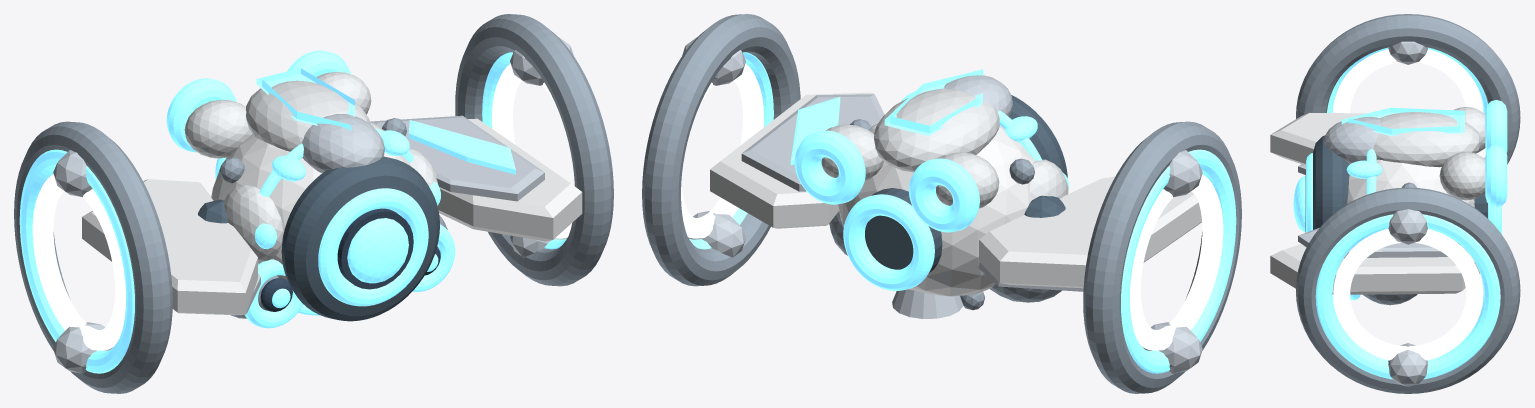
The model's file is drone_b.glb.
The picture shows the model from 3 angles, left to right: view 1: azimuth 30°, elevation 25°; view 2: azimuth 150°, elevation 25°; view 3: azimuth 270°, elevation 25°; orthographic projection. The views are drawn at different scales.
Parts seen in each view (by area): view 1: shield_dish_outer_042, shield_dish_outer_037, escudo_primary_wing_primary_032, front_reactor_bearing_003, escudo_primary_wing_primary_027, shield_dish_inner_039, shield_dish_emission_038, emission_ring_004, escudo_primary_wing_metal_ridge_028, dorsal_armor_back_048, central_reactor_hull_001, dorsal_crest_049 (+23 smaller); view 2: shield_dish_outer_042, shield_dish_outer_037, escudo_primary_wing_primary_032, central_reactor_hull_001, dorsal_armor_back_048, escudo_primary_wing_primary_027, shield_dish_inner_039, shield_dish_emission_038, aft_thruster_emission_026, side_propulsion_ring_063, side_propulsion_ring_056, escudo_primary_wing_metal_ridge_028 (+19 smaller); view 3: shield_dish_outer_042, shield_dish_outer_037, shield_dish_emission_043, shield_dish_inner_044, escudo_primary_wing_primary_027, dorsal_armor_back_048, shield_dish_inner_039, front_reactor_bearing_003, escudo_primary_wing_primary_032, central_reactor_hull_001, upper_thruster_armor_062, dorsal_crest_049 (+16 smaller).
Part boxes in pixels (x1,y1,x2,y2): shield_dish_outer_042: [455, 14, 613, 286]; shield_dish_outer_037: [14, 121, 172, 393]; escudo_primary_wing_primary_032: [82, 179, 257, 315]; front_reactor_bearing_003: [281, 156, 439, 321]; escudo_primary_wing_primary_027: [438, 118, 582, 241]; shield_dish_inner_039: [32, 174, 125, 350]; shield_dish_emission_038: [19, 149, 134, 373]; emission_ring_004: [318, 188, 428, 306]; escudo_primary_wing_metal_ridge_028: [370, 115, 544, 201]; dorsal_armor_back_048: [246, 80, 370, 151]; central_reactor_hull_001: [211, 122, 410, 280]; dorsal_crest_049: [301, 114, 384, 173]; shield_dish_outer_042: [642, 14, 800, 286]; shield_dish_outer_037: [1083, 121, 1241, 393]; escudo_primary_wing_primary_032: [979, 176, 1201, 288]; central_reactor_hull_001: [838, 125, 1035, 296]; dorsal_armor_back_048: [874, 88, 999, 172]; escudo_primary_wing_primary_027: [710, 92, 873, 228]; shield_dish_inner_039: [1130, 174, 1223, 350]; shield_dish_emission_038: [1121, 149, 1236, 373]; aft_thruster_emission_026: [843, 194, 934, 290]; side_propulsion_ring_063: [794, 130, 865, 204]; side_propulsion_ring_056: [909, 158, 979, 232]; escudo_primary_wing_metal_ridge_028: [741, 94, 884, 191]; shield_dish_outer_042: [1296, 187, 1520, 393]; shield_dish_outer_037: [1296, 14, 1520, 164]; shield_dish_emission_043: [1315, 214, 1500, 379]; shield_dish_inner_044: [1333, 229, 1482, 360]; escudo_primary_wing_primary_027: [1270, 244, 1480, 294]; dorsal_armor_back_048: [1373, 112, 1481, 167]; shield_dish_inner_039: [1333, 49, 1482, 113]; front_reactor_bearing_003: [1313, 135, 1349, 229]; escudo_primary_wing_primary_032: [1270, 113, 1485, 165]; central_reactor_hull_001: [1347, 159, 1474, 207]; upper_thruster_armor_062: [1439, 151, 1485, 200]; dorsal_crest_049: [1323, 117, 1381, 163].
Size of the model in its own units: 3.98 by 1.86 by 2.07.
